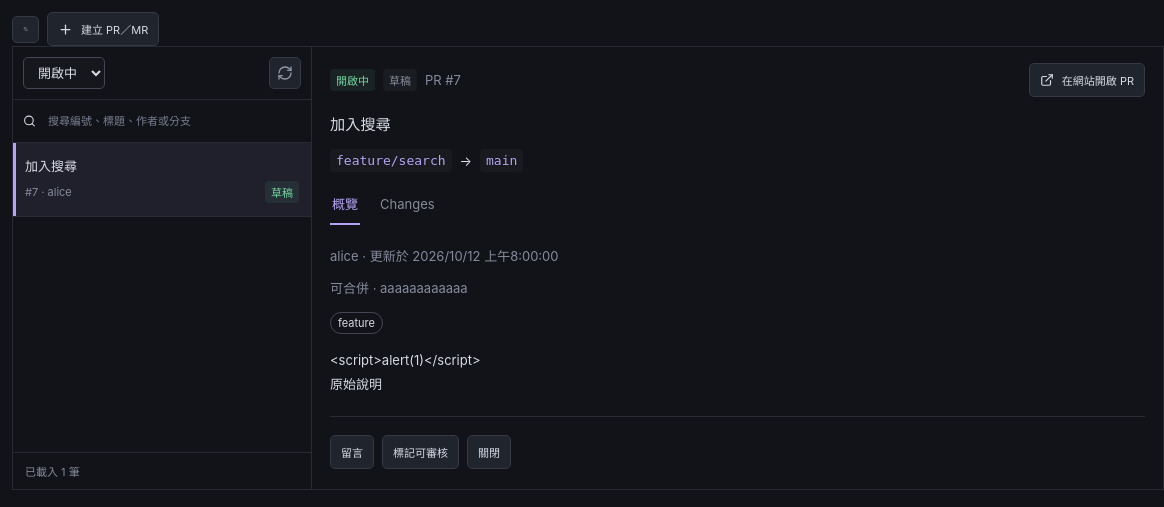
Changes 讀取所選 PR 的 commit 並顯示 diff 與行號
Check: the text "可合併 · aaaaaaaaaaaa" is shown, box [330,280,468,296]
Click the tab "Changes": (407, 205) [378,184,437,225]
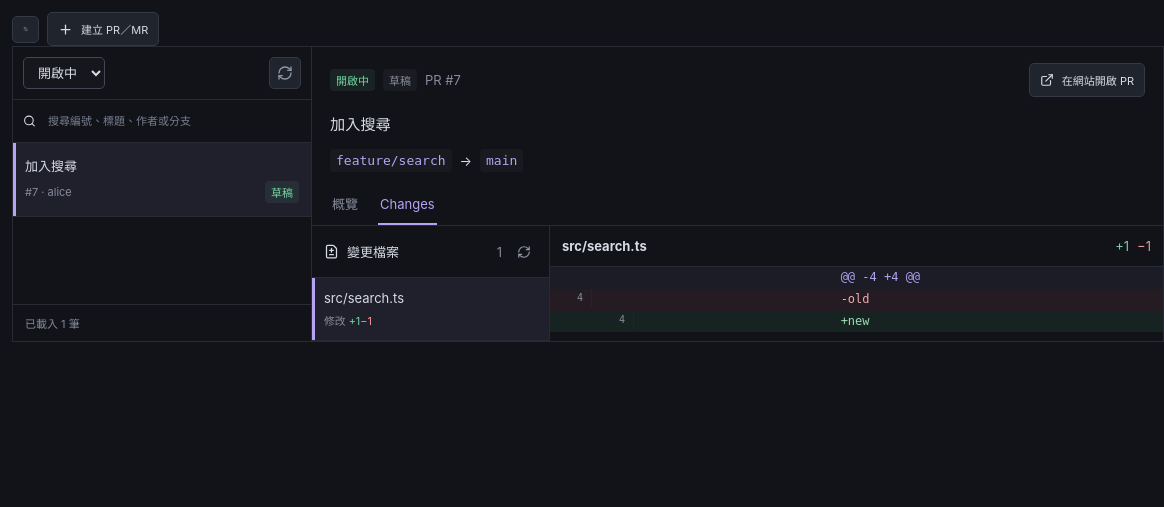
Check: the text "4" is shown 2 times, box [550,289,592,307]; [592,311,634,329]
